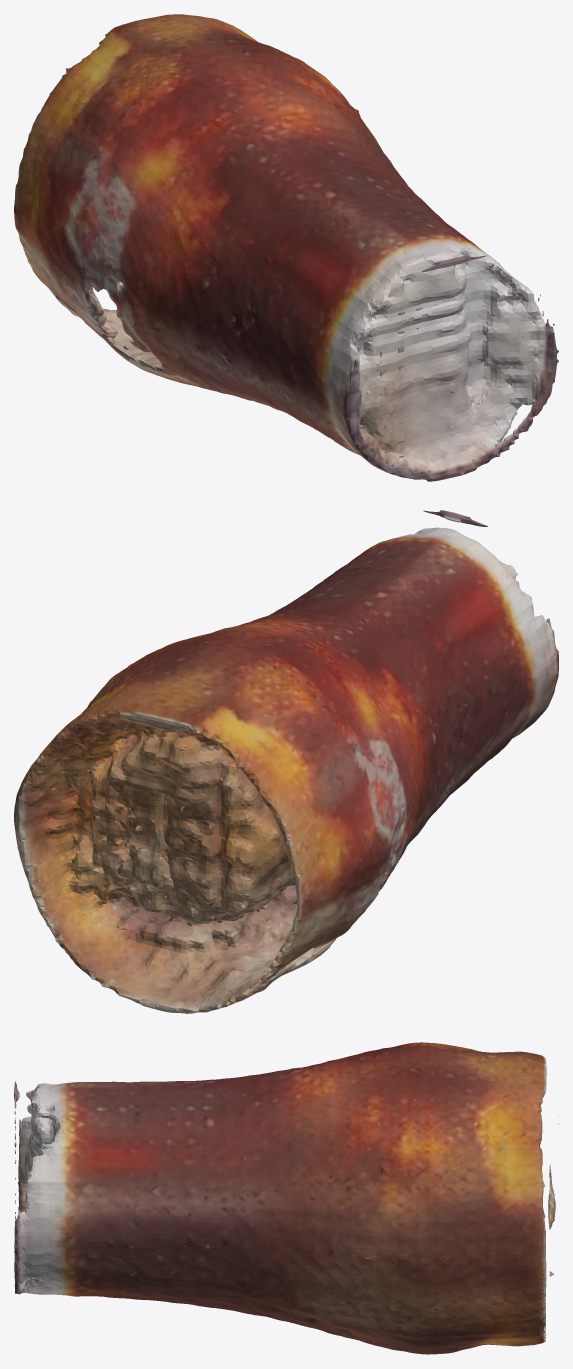
3 views of the same model, one above another, from view 1: azimuth 30°, elevation 25°; view 2: azimuth 150°, elevation 25°; view 3: azimuth 270°, elevation 25° (orthographic). The views are drawn at different scales.
Parts seen in each view (by area): view 1: geometry_0; view 2: geometry_0; view 3: geometry_0.
Part boxes in pixels (<box>): geometry_0: <box>14,14,558,481</box>; geometry_0: <box>14,510,558,1013</box>; geometry_0: <box>14,1042,558,1354</box>.
Size of the model in its own units: 1.11 by 1.1 by 1.94.
